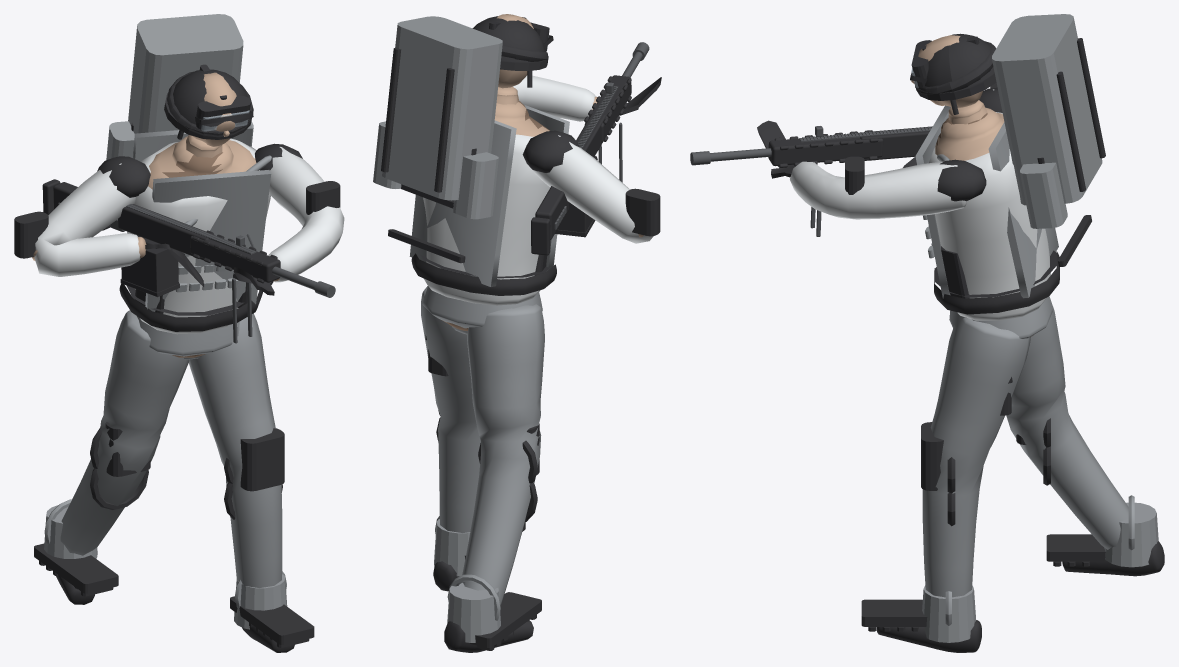
Rendered from arctic-station-fps-kit-defender-heavy-aiming-13ed73cb__28519.glb.
3 views of the same model, side by side, from view 1: azimuth 30°, elevation 25°; view 2: azimuth 150°, elevation 25°; view 3: azimuth 270°, elevation 25° (orthographic). The views are drawn at different scales.
Visible parts, largest first — view 1: defender-heavy-aiming; view 2: defender-heavy-aiming; view 3: defender-heavy-aiming.
Part boxes in pixels (x1,y1,x2,y2): defender-heavy-aiming: [14, 14, 344, 652]; defender-heavy-aiming: [373, 14, 661, 652]; defender-heavy-aiming: [690, 14, 1164, 652].
Bounding box in the file's own units: 0.8694 × 1.85 × 1.32.
